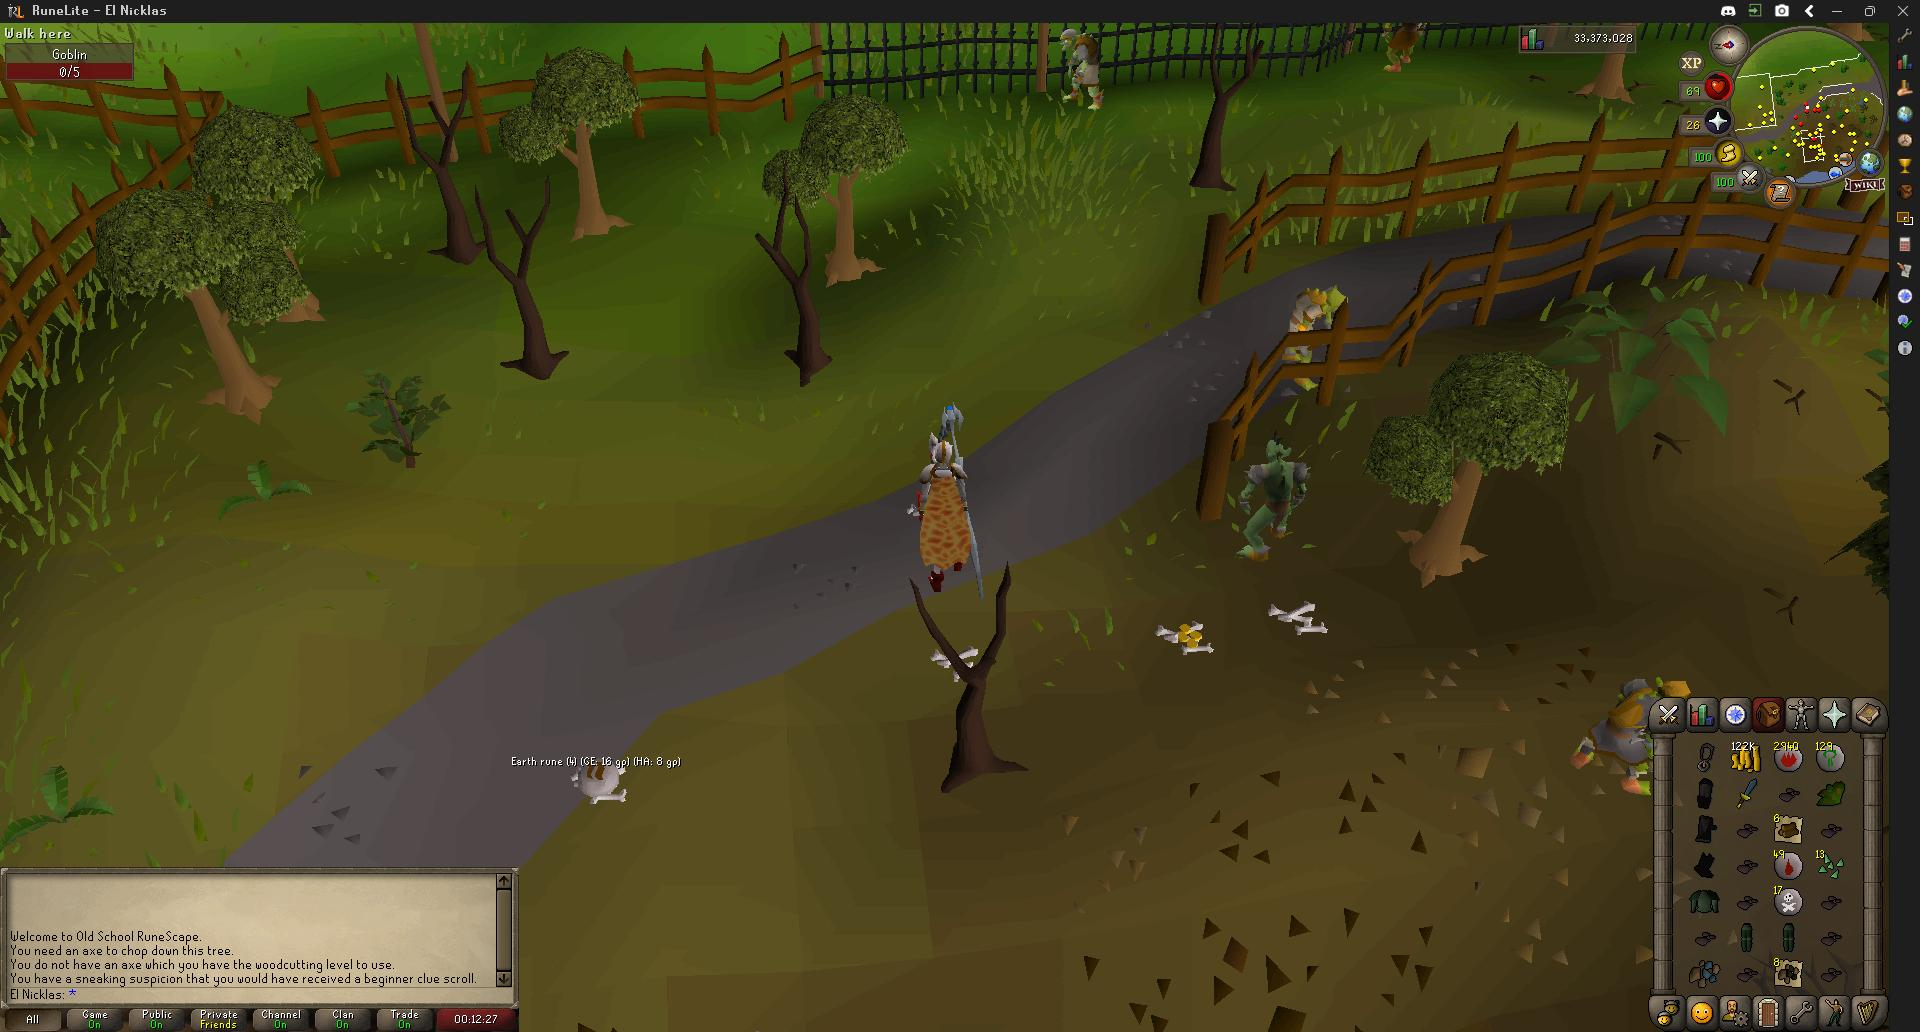Player: (915, 430, 979, 592)
goblin: (1571, 675, 1671, 794), (1237, 436, 1307, 557), (1278, 286, 1329, 387), (1061, 27, 1106, 112), (1381, 22, 1426, 74)
